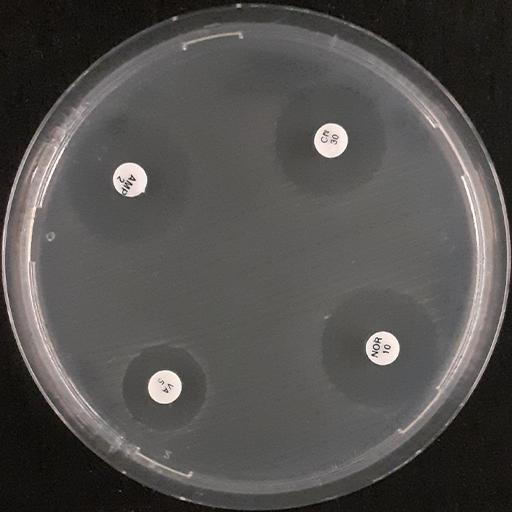disc: (112, 162, 148, 197), (313, 122, 348, 157), (148, 369, 182, 404), (365, 331, 400, 365)
